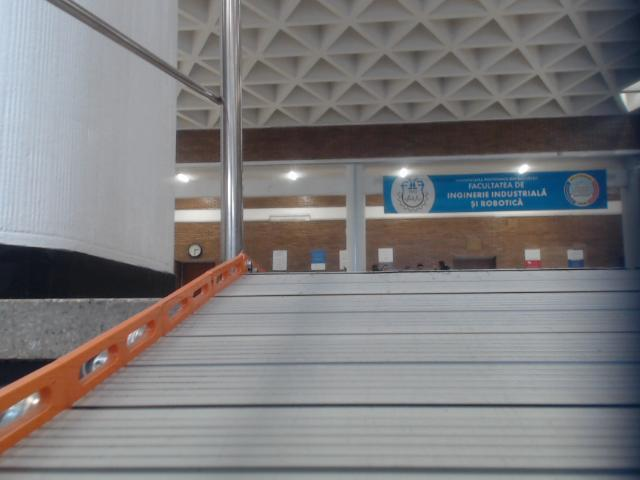rampUp: (0, 255, 639, 479)
ramps-railing: (47, 0, 242, 260)
